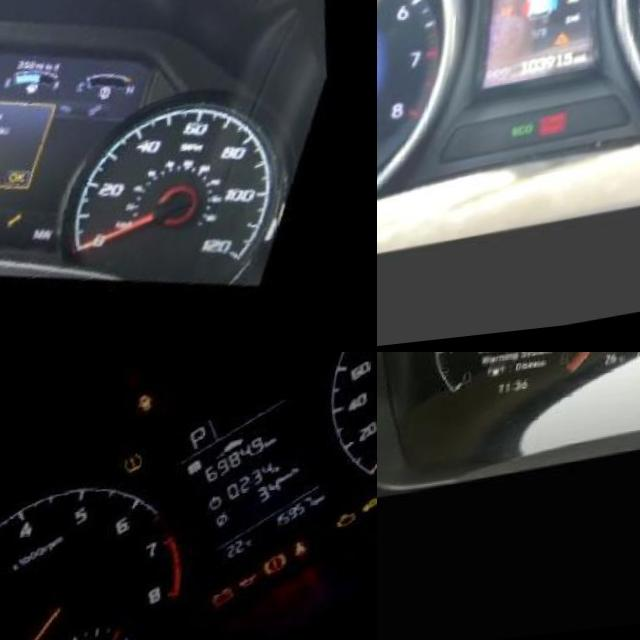Low fuel level: (37, 86, 52, 100)
Seat Belt: (308, 539, 334, 564)
